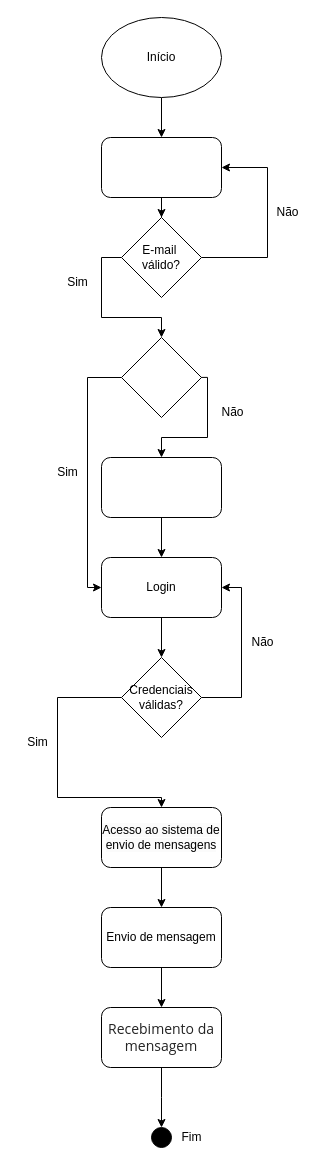
Image size: 329x1170. Some labels were removed from this diagram. The shapes that lost their labels are listed below. From the top down, each one's centre as x and y in pixels, then its label:
At [161,167]: "Cadastro".
At [161,377]: "E-mail em uso?".
At [161,487]: "Conta criada".
